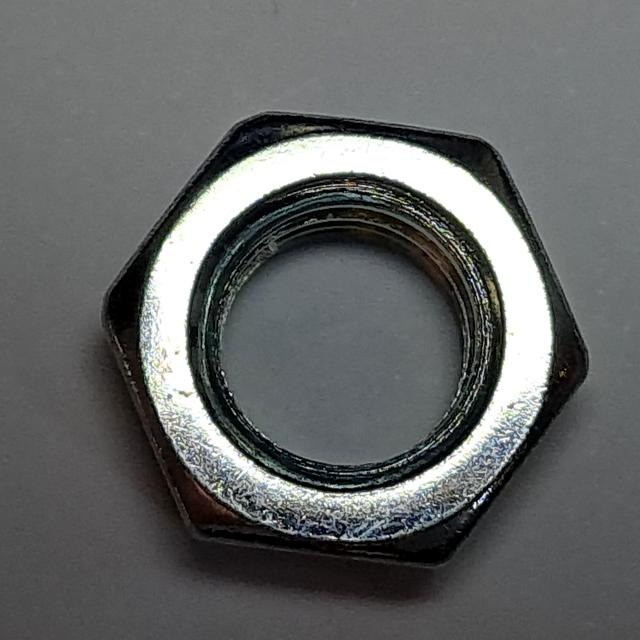Excellent: (83, 102, 601, 587)
